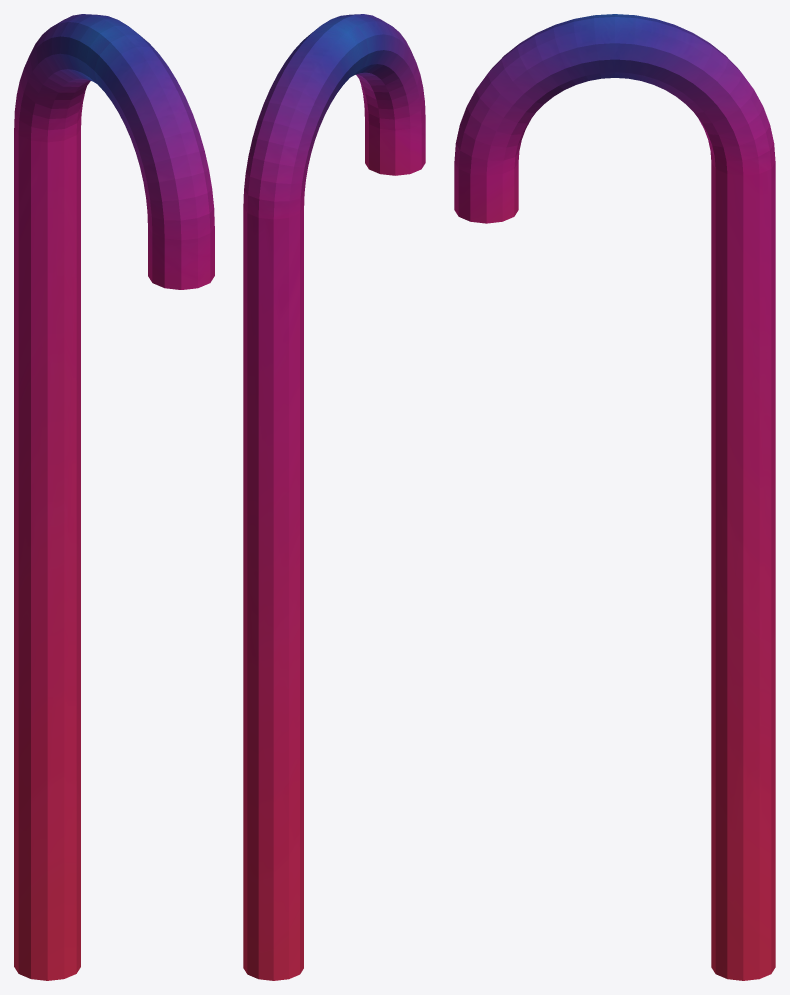
Rendered from Candy Cane.obj.
3 views of the same model, side by side, from view 1: azimuth 30°, elevation 25°; view 2: azimuth 150°, elevation 25°; view 3: azimuth 270°, elevation 25° (orthographic). The views are drawn at different scales.
Parts seen in each view (by area): view 1: Torus; view 2: Torus; view 3: Torus.
Part boxes in pixels (left/top/right/bottom): Torus: left=14, top=14, right=214, bottom=980; Torus: left=243, top=14, right=425, bottom=980; Torus: left=454, top=14, right=775, bottom=980.
Size of the model in its own units: 0.056 by 0.9144 by 0.28.
Materials: 1 (1 with a texture image).
